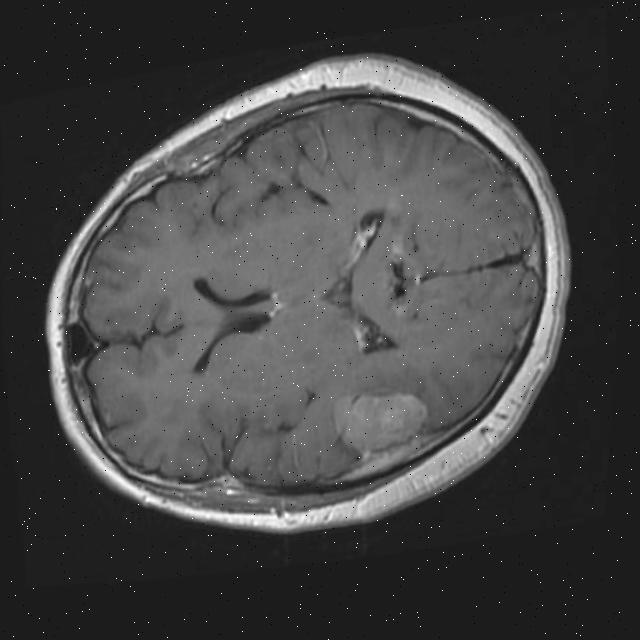Meningioma: (323, 376, 434, 470)
